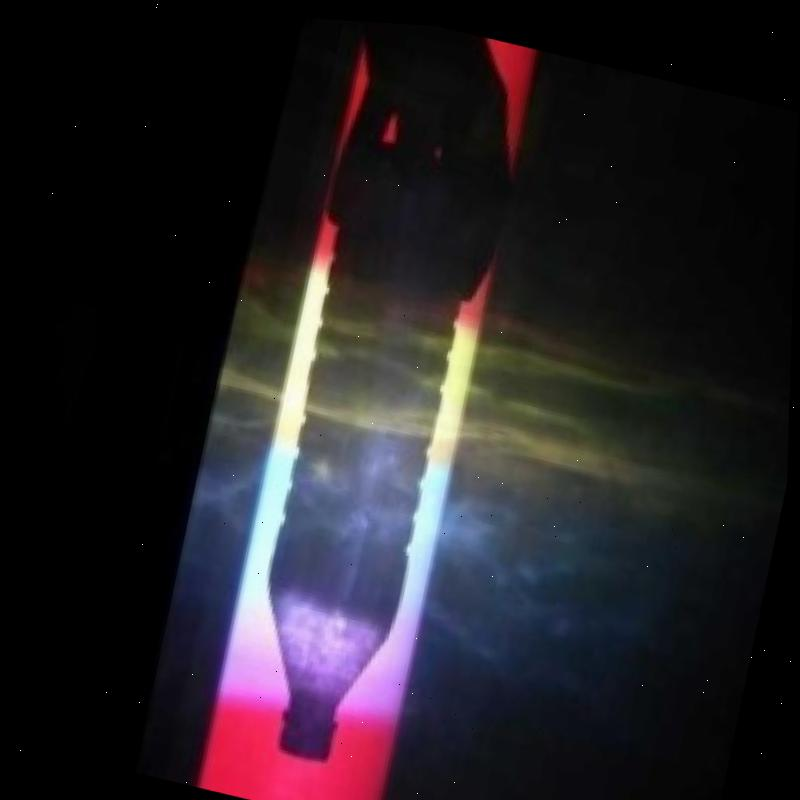botella: (228, 128, 490, 777)
